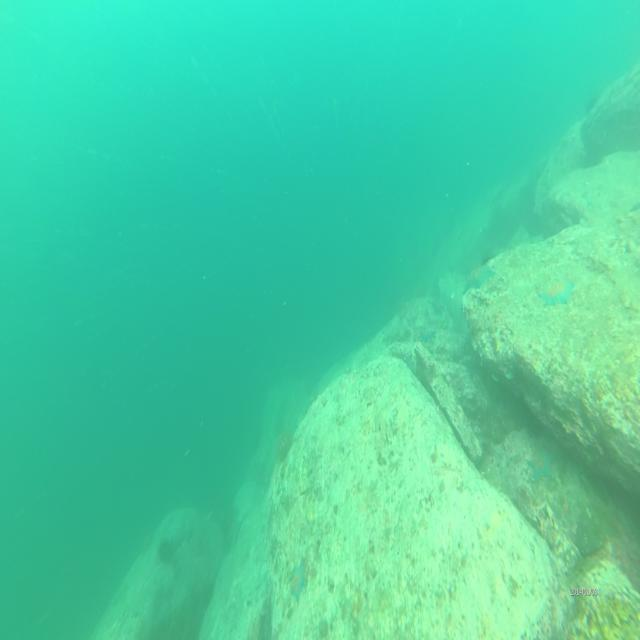echinus: (274, 428, 294, 461), (157, 539, 176, 569)
starfish: (540, 273, 574, 310), (528, 443, 556, 482), (463, 263, 496, 294), (289, 565, 306, 601), (418, 322, 436, 343)
